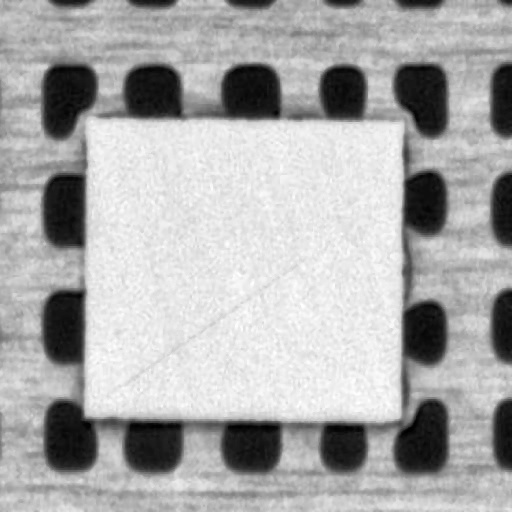DIE_CRACK: (136, 193, 402, 298)
